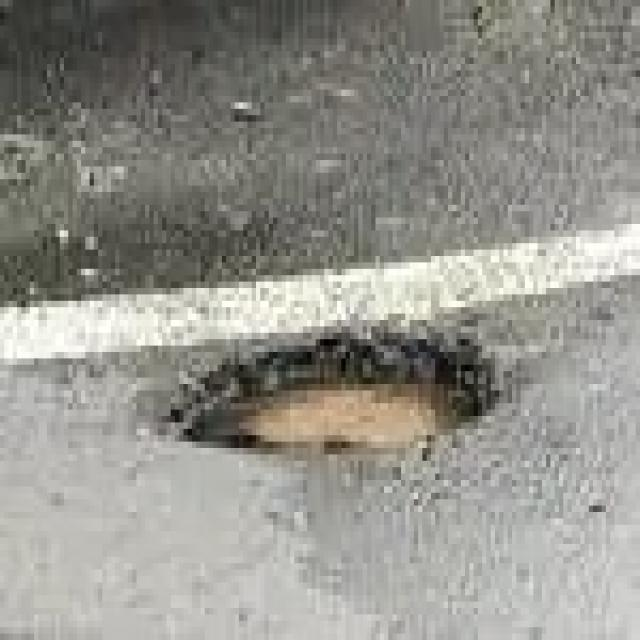Pothole: (175, 320, 495, 474)
